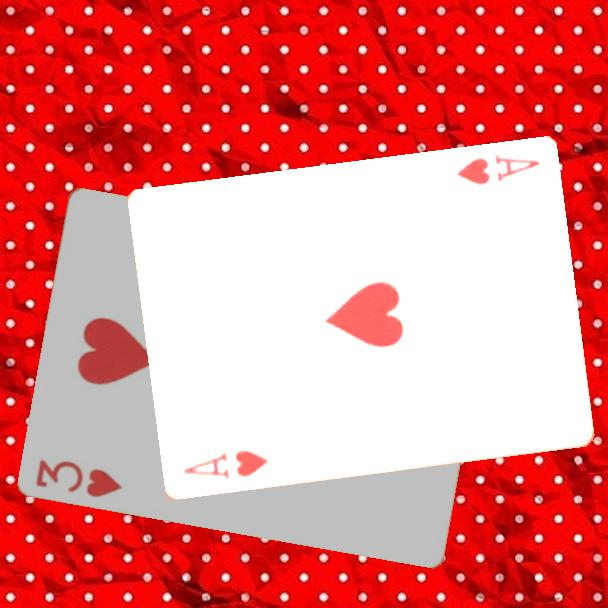h01: (453, 152, 543, 189), (180, 447, 271, 483)
h03: (32, 455, 126, 500)
